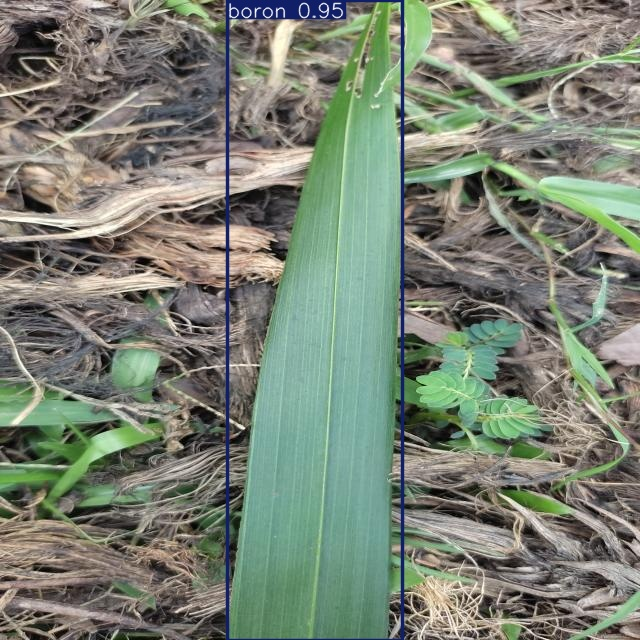nitrogen: (227, 0, 402, 640)
